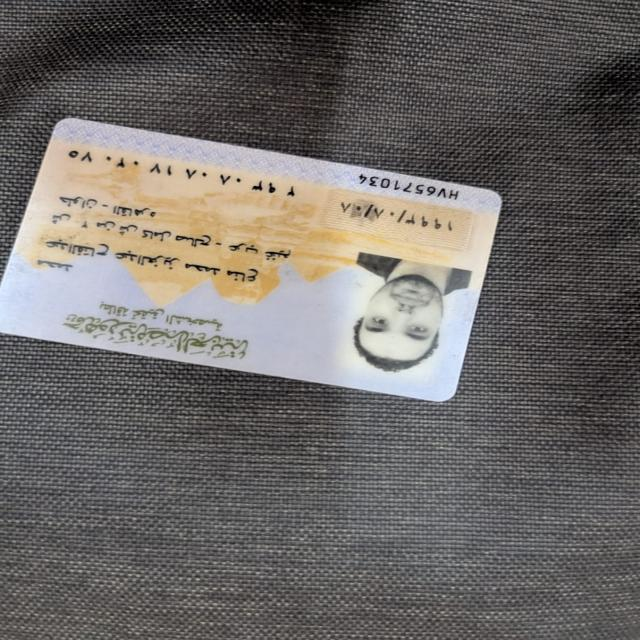ID-cards: (1, 107, 525, 408)
